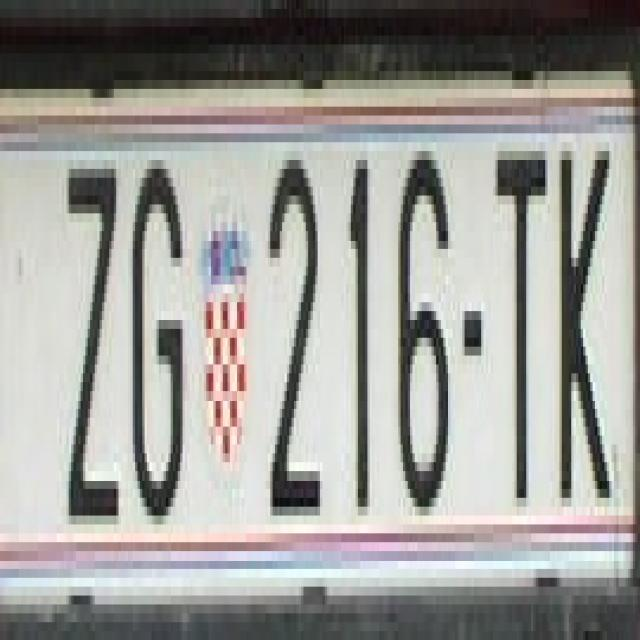1: (346, 160, 372, 507)
2: (266, 133, 327, 498)
6: (400, 142, 450, 507)
G: (130, 160, 192, 516)
K: (557, 133, 614, 480)
T: (493, 142, 545, 489)
Z: (64, 142, 121, 507)
